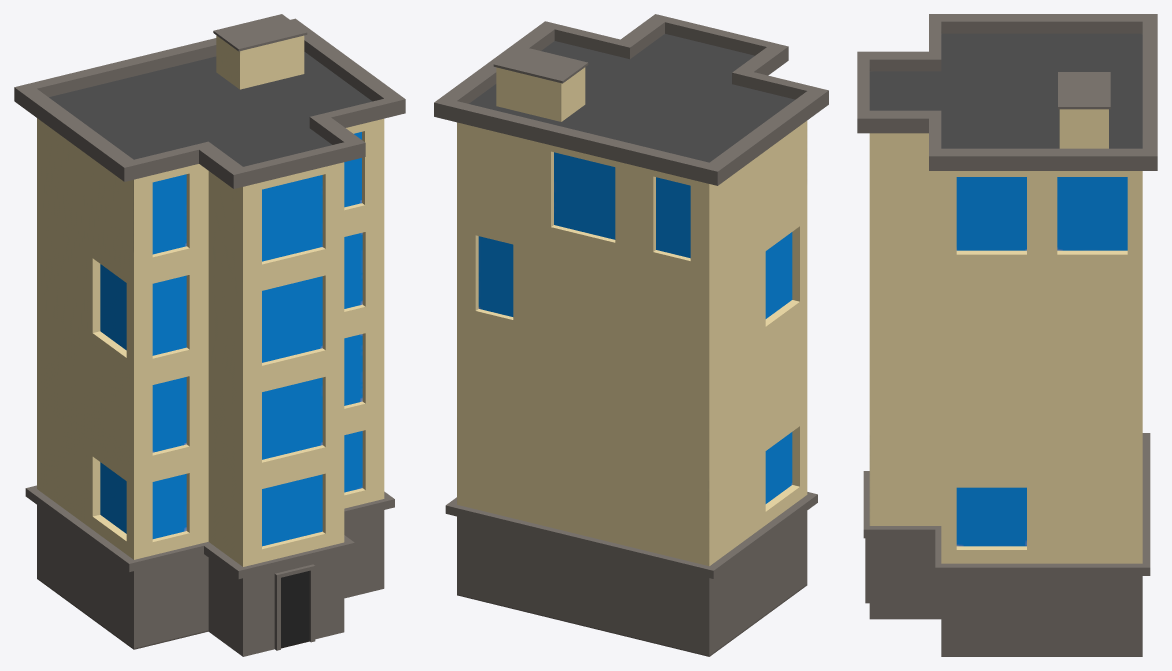
The model's file is CityBuilding04.glb.
3 renders of one model, left to right at view 1: azimuth 30°, elevation 25°; view 2: azimuth 150°, elevation 25°; view 3: azimuth 270°, elevation 25°, orthographic. The views are drawn at different scales.
Visible parts, largest first — view 1: CityBuilding04; view 2: CityBuilding04; view 3: CityBuilding04.
Boxes of the visible parts, box(x1,y1,x2,y2) form: CityBuilding04: box(14, 14, 405, 656); CityBuilding04: box(434, 14, 828, 656); CityBuilding04: box(857, 14, 1157, 656).
Size of what is drawn, in the model's own units: 7.4 by 13.08 by 6.6.
Materials: 1 (1 with a texture image).
